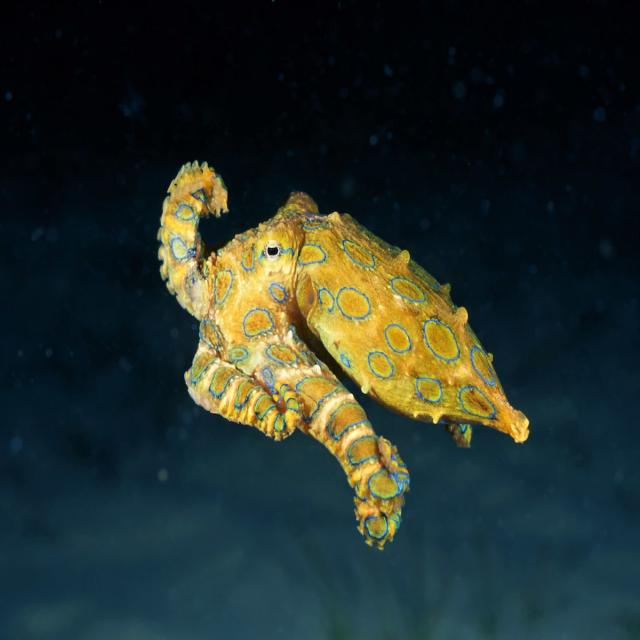blue_ringed_octopus: (156, 161, 530, 552)
